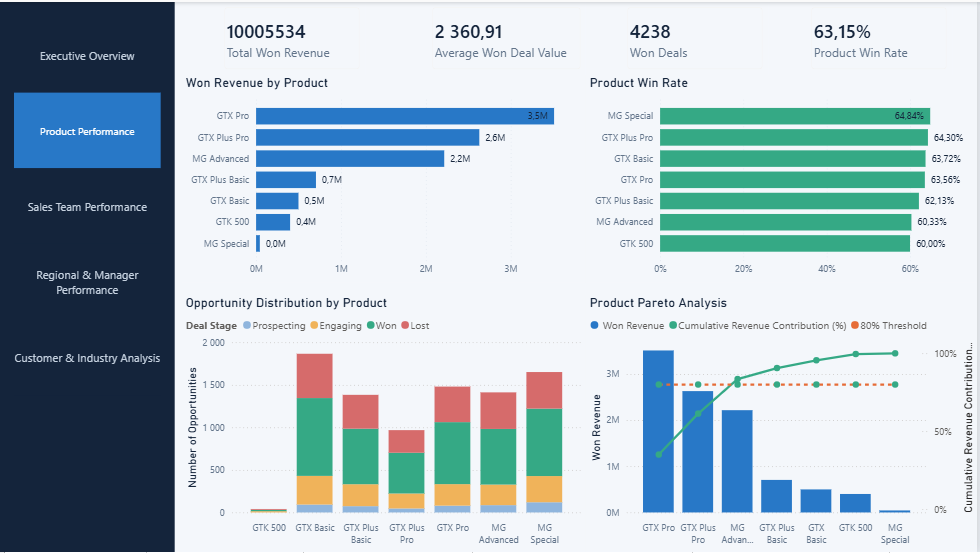

What the dashboard file says about the page in this screenshot:
{"tool":"powerbi","page":{"name":"Product Performance","canvas":[1280,720],"ordinal":1},"visuals":[{"type":"shape","box":[0,0,230,720],"z":0},{"type":"pageNavigator","box":[20,20,192,496],"z":1000},{"type":"cardVisual","fields":{"Data":["sales_pipeline.Total Won Revenue"]},"box":[288,0,192,96],"z":2000},{"type":"cardVisual","fields":{"Data":["sales_pipeline.Won Deals"]},"box":[816,0,192,96],"z":3000},{"type":"cardVisual","fields":{"Data":["sales_pipeline.Overall Win Rate"]},"box":[1056,0,192,96],"z":4000},{"type":"cardVisual","fields":{"Data":["sales_pipeline.Average Won Deal Value"]},"box":[560,0,208,96],"z":5000},{"type":"clusteredBarChart","title":"Won Revenue by Product","fields":{"Category":["products.product"],"Y":["sales_pipeline.Total Won Revenue"]},"box":[240,96,528,272],"z":6000},{"type":"clusteredBarChart","title":"Product Win Rate","fields":{"Category":["products.product"],"Y":["sales_pipeline.Overall Win Rate"]},"box":[768,96,512,272],"z":7000},{"type":"columnChart","title":"Opportunity Distribution by Product","fields":{"Category":["products.product"],"Y":["CountNonNull(sales_pipeline.opportunity_id)"],"Series":["sales_pipeline.deal_stage"]},"box":[240,384,528,336],"z":8000},{"type":"lineClusteredColumnComboChart","title":"Product Pareto Analysis","fields":{"Category":["products.product"],"Y":["sales_pipeline.Total Won Revenue"],"Y2":["sales_pipeline.Cumulative Revenue Contribution (%)","products.80% Threshold"]},"box":[768,384,512,336],"z":9000}]}

Visuals, with their boxes on the page's 1280x720 design canvas (x1, y1, x2, y2). These are canvas units, not pixel positions in the 980x553 screenshot, which may show the page scaled, cropped or inside an application window:
shape: 0 0 230 720
pageNavigator: 20 20 212 516
cardVisual - sales_pipeline.Total Won Revenue: 288 0 480 96
cardVisual - sales_pipeline.Won Deals: 816 0 1008 96
cardVisual - sales_pipeline.Overall Win Rate: 1056 0 1248 96
cardVisual - sales_pipeline.Average Won Deal Value: 560 0 768 96
"Won Revenue by Product" clusteredBarChart: 240 96 768 368
"Product Win Rate" clusteredBarChart: 768 96 1280 368
"Opportunity Distribution by Product" columnChart: 240 384 768 720
"Product Pareto Analysis" lineClusteredColumnComboChart: 768 384 1280 720
